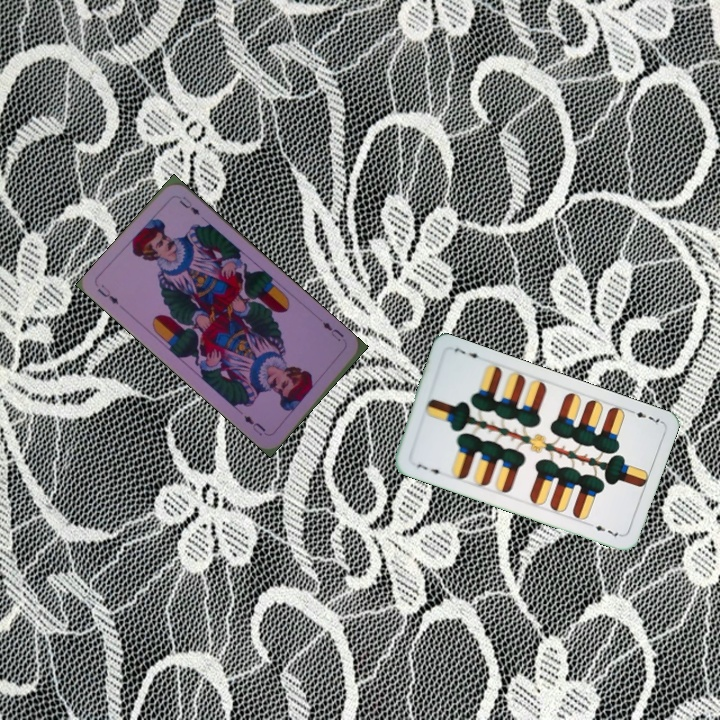E7: (625, 405, 664, 426), (413, 460, 445, 478)
EU: (318, 318, 347, 344), (93, 281, 121, 307)
